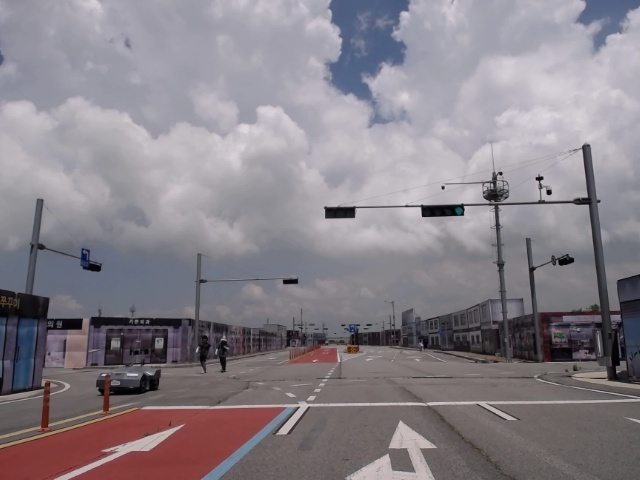straight_green_4: (424, 204, 465, 217)
